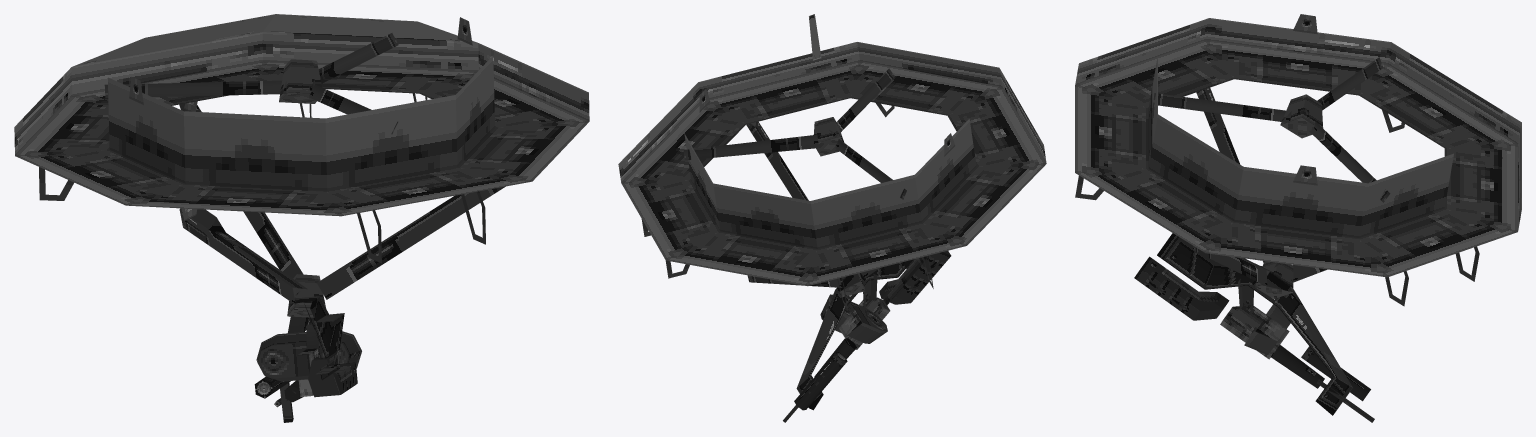
The model's file is ps2_save-icons_mgs2-15525plant-cleared.glb.
3 views of the same model, side by side, from view 1: azimuth 30°, elevation 25°; view 2: azimuth 150°, elevation 25°; view 3: azimuth 270°, elevation 25° (orthographic). The views are drawn at different scales.
Parts seen in each view (by area): view 1: MGS2 1:55:25Plant Cleared; view 2: MGS2 1:55:25Plant Cleared; view 3: MGS2 1:55:25Plant Cleared.
Boxes of the visible parts, x1,y1,x2,y2 form: MGS2 1:55:25Plant Cleared: (14,14,589,422); MGS2 1:55:25Plant Cleared: (618,14,1046,422); MGS2 1:55:25Plant Cleared: (1075,14,1521,422).
Bounding box in the file's own units: 3.58 × 3.23 × 3.54.
1 material, 1 textured.
